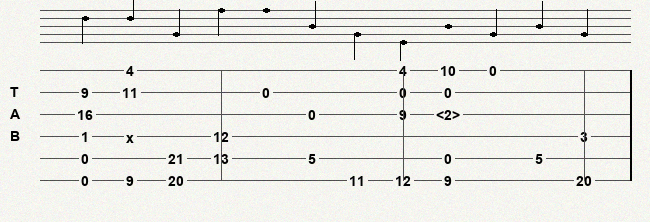0: (81, 151, 93, 165), (81, 173, 93, 187), (262, 85, 274, 99), (308, 107, 320, 121), (399, 85, 411, 99), (444, 151, 456, 165), (444, 85, 456, 99), (489, 63, 501, 77)
1: (81, 129, 93, 143)
10: (440, 63, 460, 77)
11: (122, 85, 142, 99), (349, 173, 369, 187)
12: (213, 129, 233, 143), (395, 173, 415, 187)
13: (213, 151, 233, 165)
16: (77, 107, 97, 121)
20: (168, 173, 188, 187), (576, 173, 596, 187)
21: (168, 151, 188, 165)
3: (580, 129, 592, 143)
4: (126, 63, 138, 77), (399, 63, 411, 77)
5: (308, 151, 320, 165), (535, 151, 547, 165)
9: (81, 85, 93, 99), (126, 173, 138, 187), (399, 107, 411, 121), (444, 173, 456, 187)
harmonic: (436, 107, 464, 121)
x: (126, 130, 138, 142)
